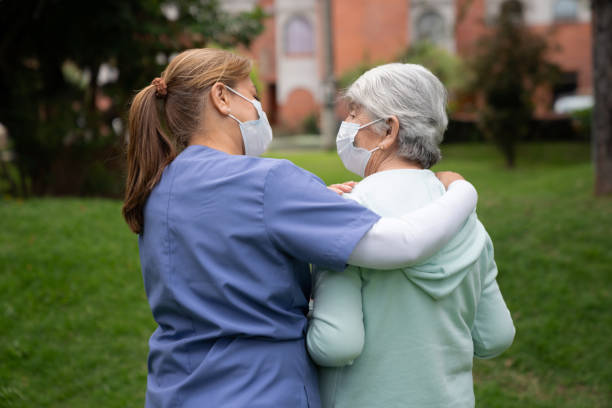with mask: (332, 59, 413, 176), (189, 51, 277, 158)
